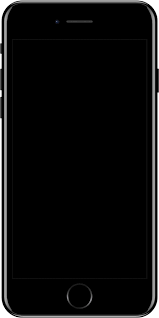iphone: (1, 1, 159, 318)
iphone7: (1, 1, 159, 318)
